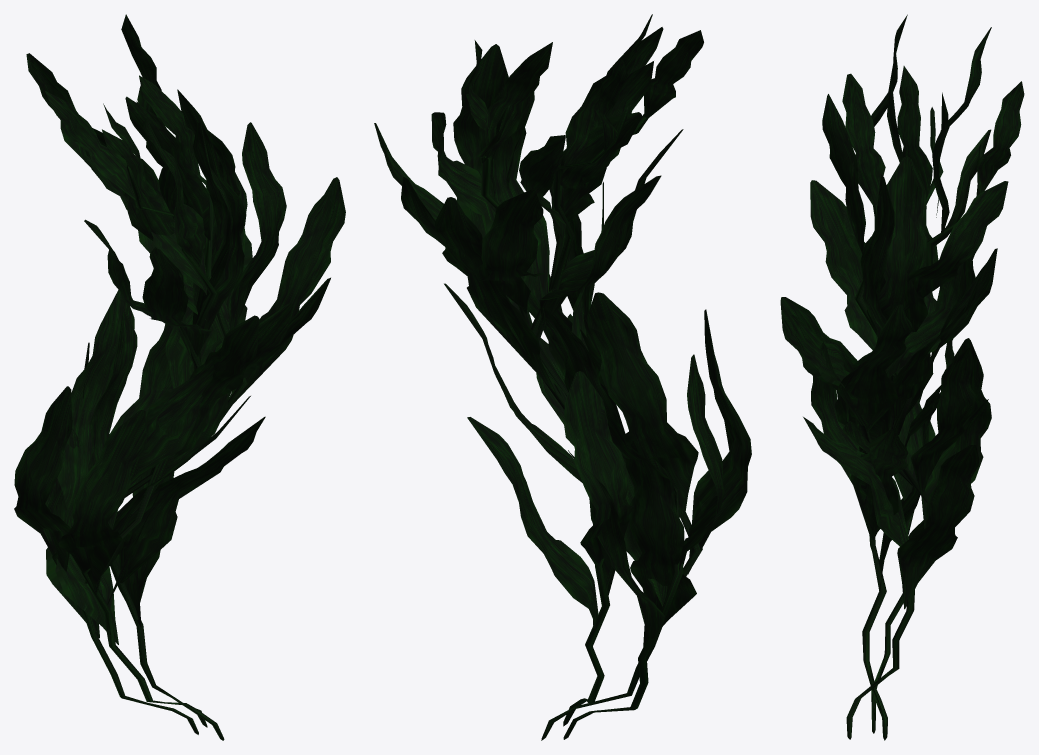
File: claret_wiggle_seaweed.glb
The picture shows the model from 3 angles, left to right: view 1: azimuth 30°, elevation 25°; view 2: azimuth 150°, elevation 25°; view 3: azimuth 270°, elevation 25°; orthographic projection. The views are drawn at different scales.
Parts seen in each view (by area): view 1: defaultMaterial; view 2: defaultMaterial; view 3: defaultMaterial.
Boxes of the visible parts, left/top/right/bottom form: defaultMaterial: left=14, top=14, right=345, bottom=740; defaultMaterial: left=374, top=14, right=751, bottom=740; defaultMaterial: left=780, top=14, right=1024, bottom=740.
Bounding box in the file's own units: 0.9789 × 2 × 0.6753.
1 material, 1 textured.
